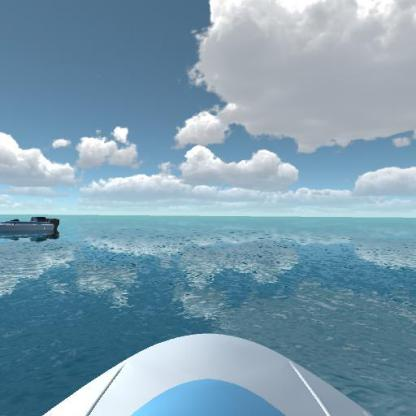usv1: (1, 211, 65, 244)
